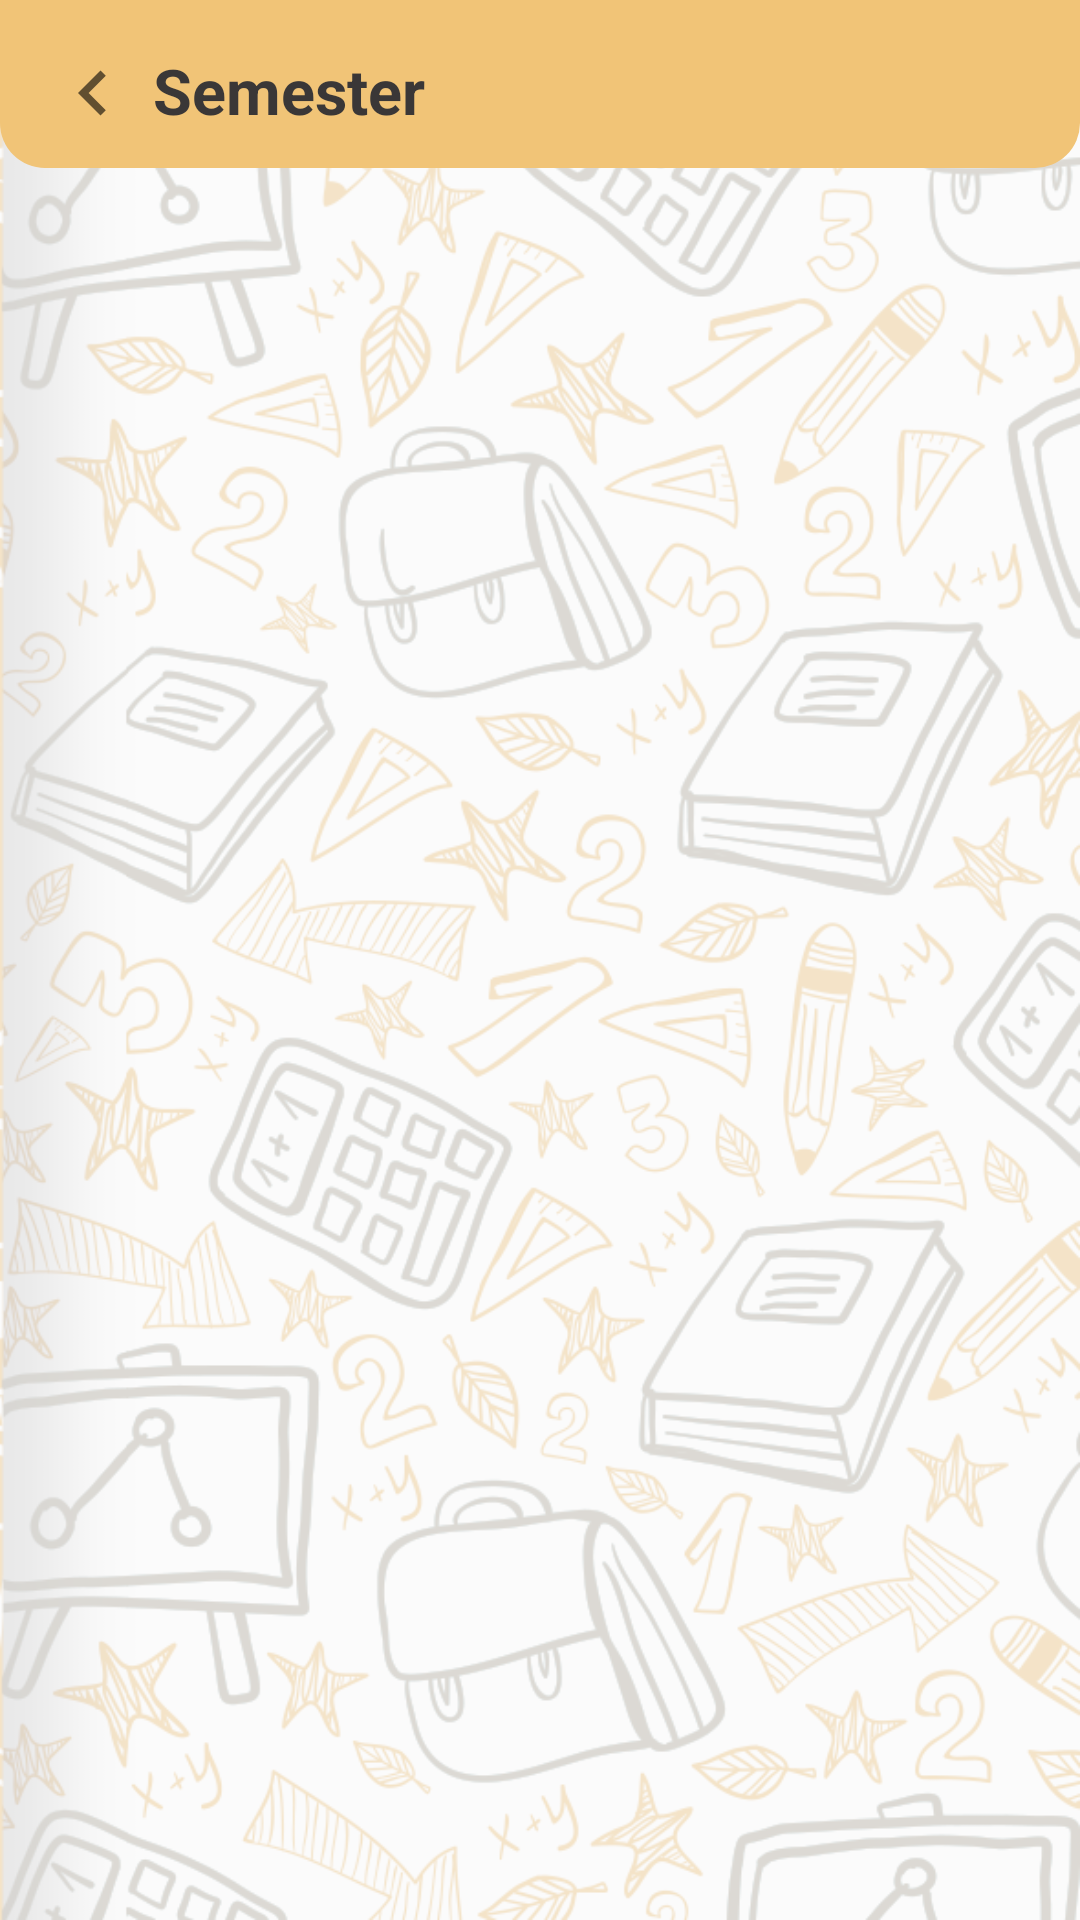

Icon bounding boxes for this 1080px×1920px phone screenshot, format (x1, y1, x2, y2):
back: (78, 70, 106, 116)
